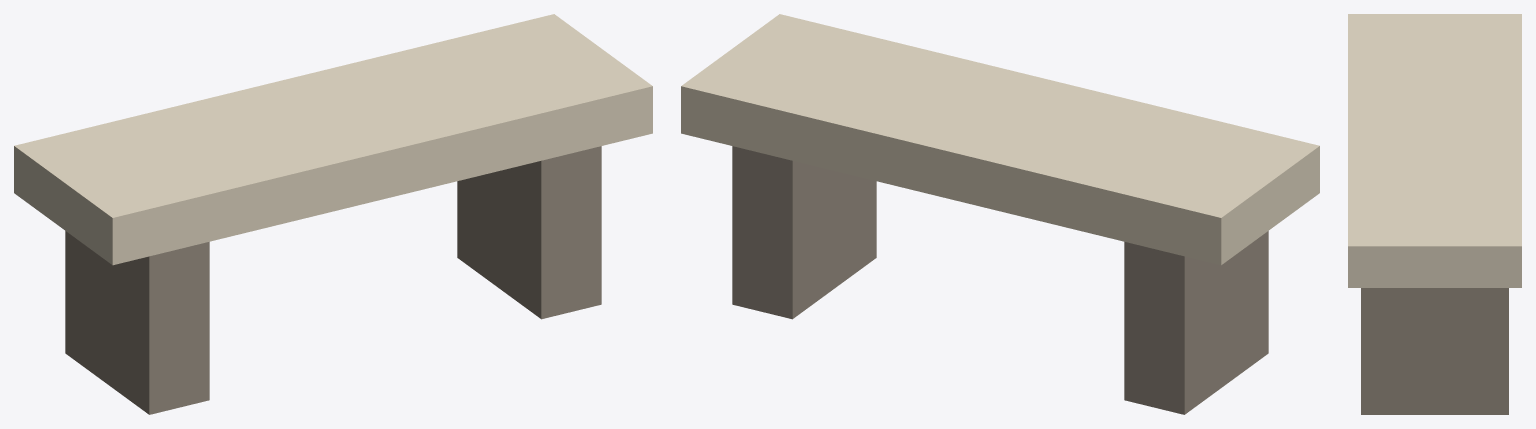
The model's file is decor_courtyard_bench_LOD2.glb.
The picture shows the model from 3 angles, left to right: view 1: azimuth 30°, elevation 25°; view 2: azimuth 150°, elevation 25°; view 3: azimuth 270°, elevation 25°; orthographic projection. The views are drawn at different scales.
Visible parts, largest first — view 1: decor_courtyard_bench_LOD2; view 2: decor_courtyard_bench_LOD2; view 3: decor_courtyard_bench_LOD2.
Part boxes in pixels (x1,y1,x2,y2): decor_courtyard_bench_LOD2: (14, 14, 652, 414); decor_courtyard_bench_LOD2: (681, 14, 1319, 414); decor_courtyard_bench_LOD2: (1348, 14, 1521, 414).
Size of the model in its own units: 2.15 by 0.81 by 0.68.
